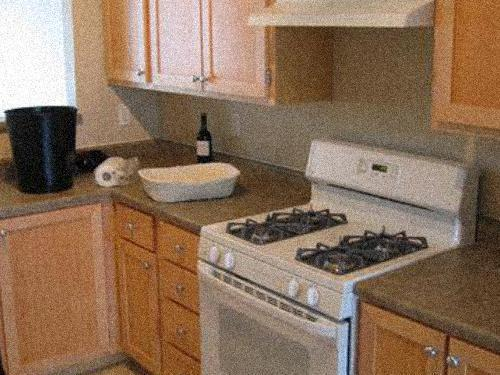Bote de Basura: (2, 100, 76, 189)
